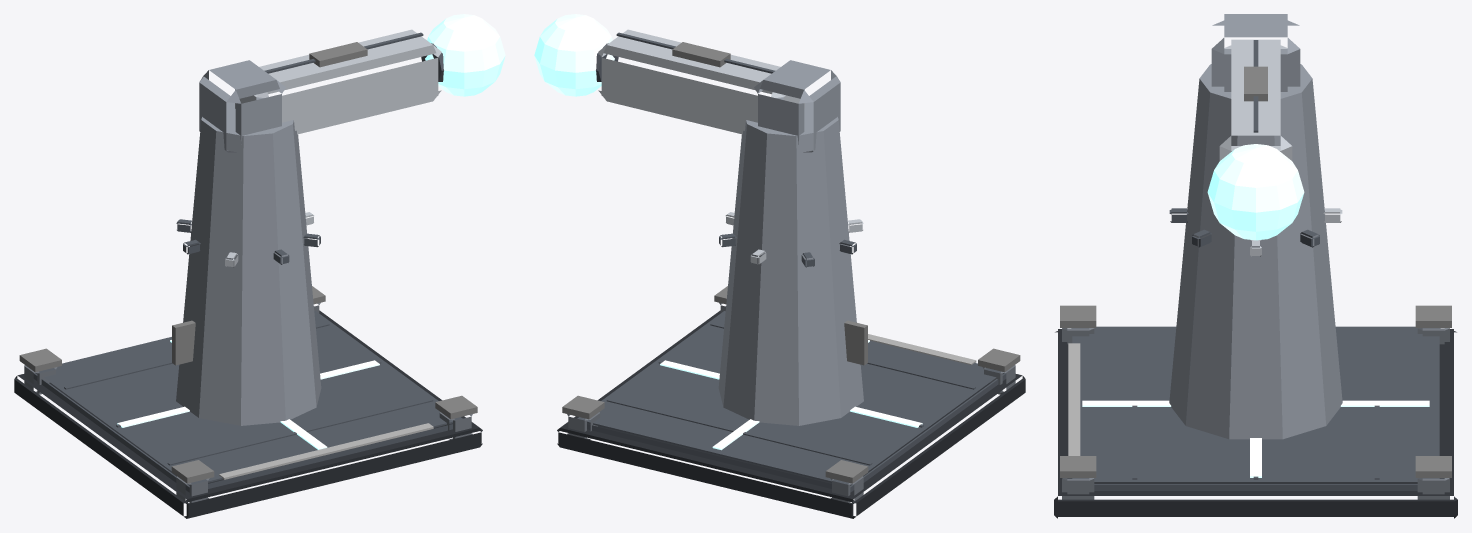
Rendered from nano.glb.
3 views of the same model, side by side, from view 1: azimuth 30°, elevation 25°; view 2: azimuth 150°, elevation 25°; view 3: azimuth 270°, elevation 25° (orthographic). The views are drawn at different scales.
Visible parts, largest first — view 1: body, turret; view 2: body, turret; view 3: body, turret.
Boxes of the visible parts, x1,y1,x2,y2 form: body: (14, 97, 482, 518); turret: (199, 14, 505, 152); body: (557, 97, 1025, 518); turret: (534, 14, 840, 152); body: (1054, 64, 1457, 518); turret: (1207, 14, 1304, 240).
Size of the model in its own units: 42.88 by 35.84 by 32.
